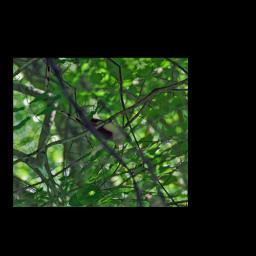Cuckoo: (52, 87, 133, 169)
